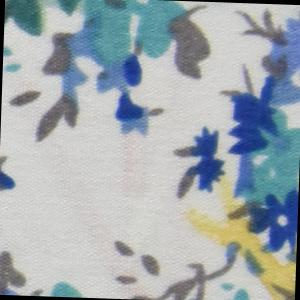Stain: (175, 168, 300, 300)
